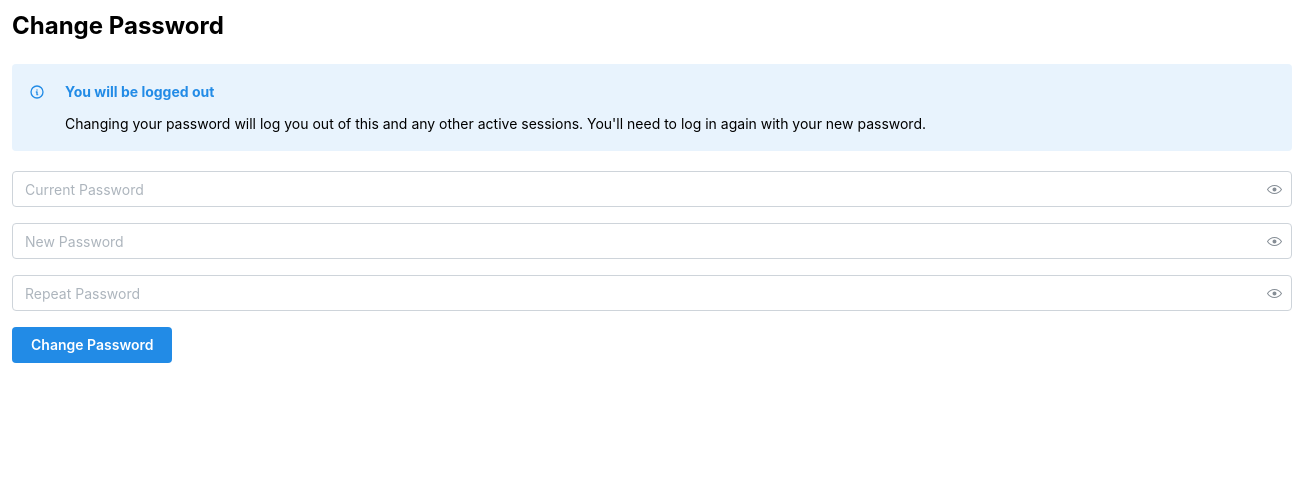
Test case: ChangePassword › requires the current password
Type "newpass1!" into the password field with placeholder "New Password" at (652, 241), box [13, 224, 1291, 258]
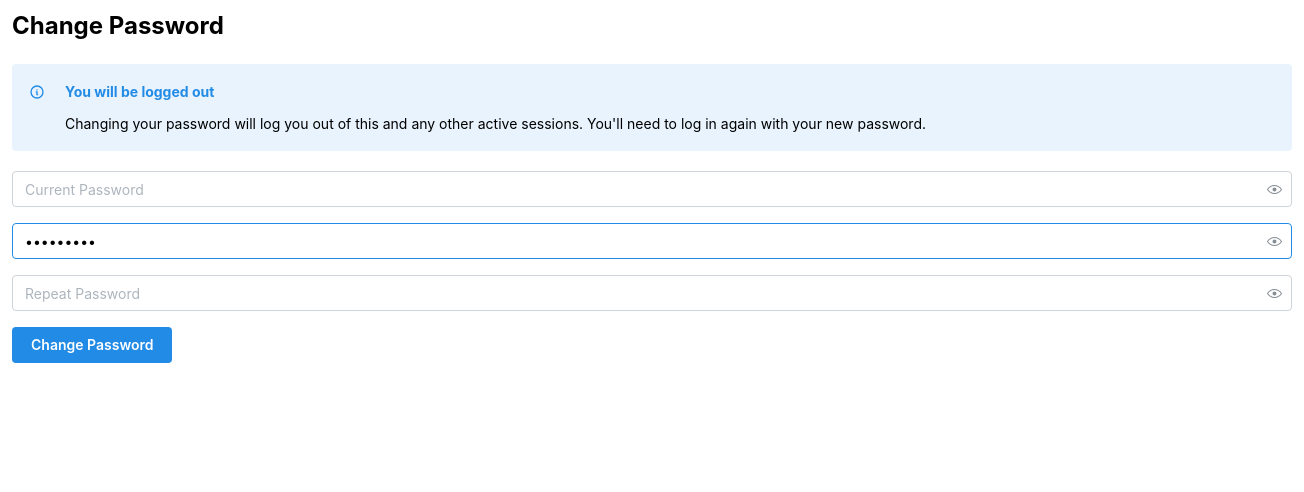
Type "newpass1!" into the password field with placeholder "Repeat Password" at (652, 293), box [13, 276, 1291, 310]
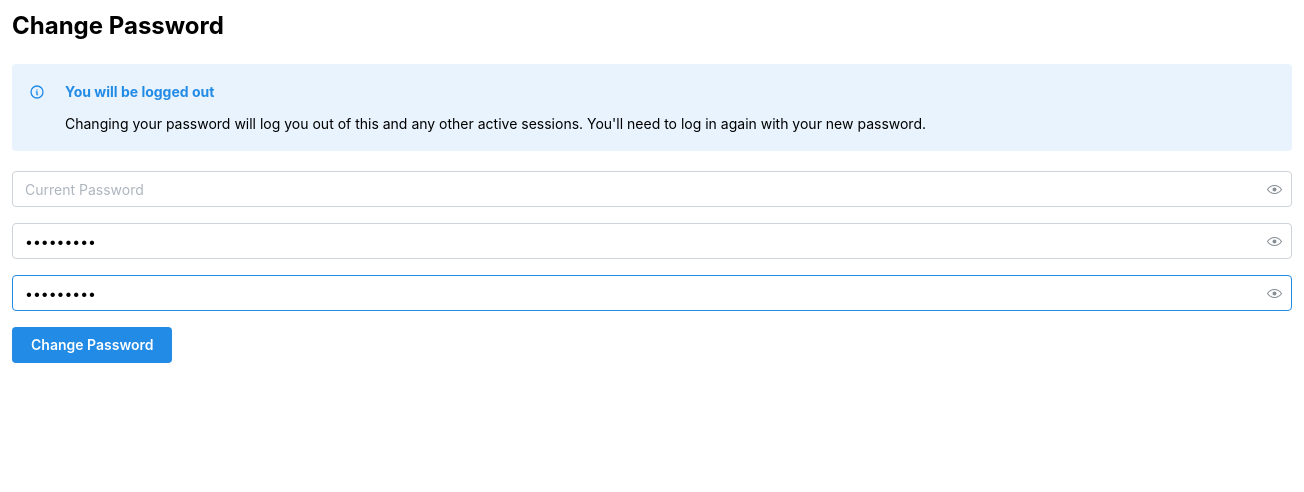
Click the button "Change Password" at (92, 345), box [12, 327, 172, 363]
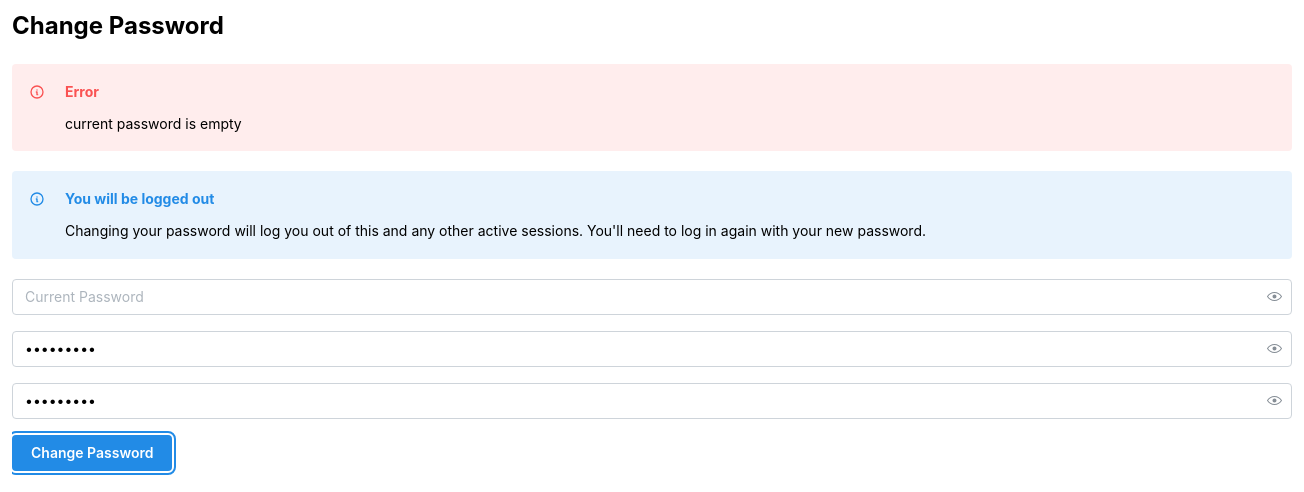
Check: the text "current password is empty" is shown, box [65, 115, 242, 132]
